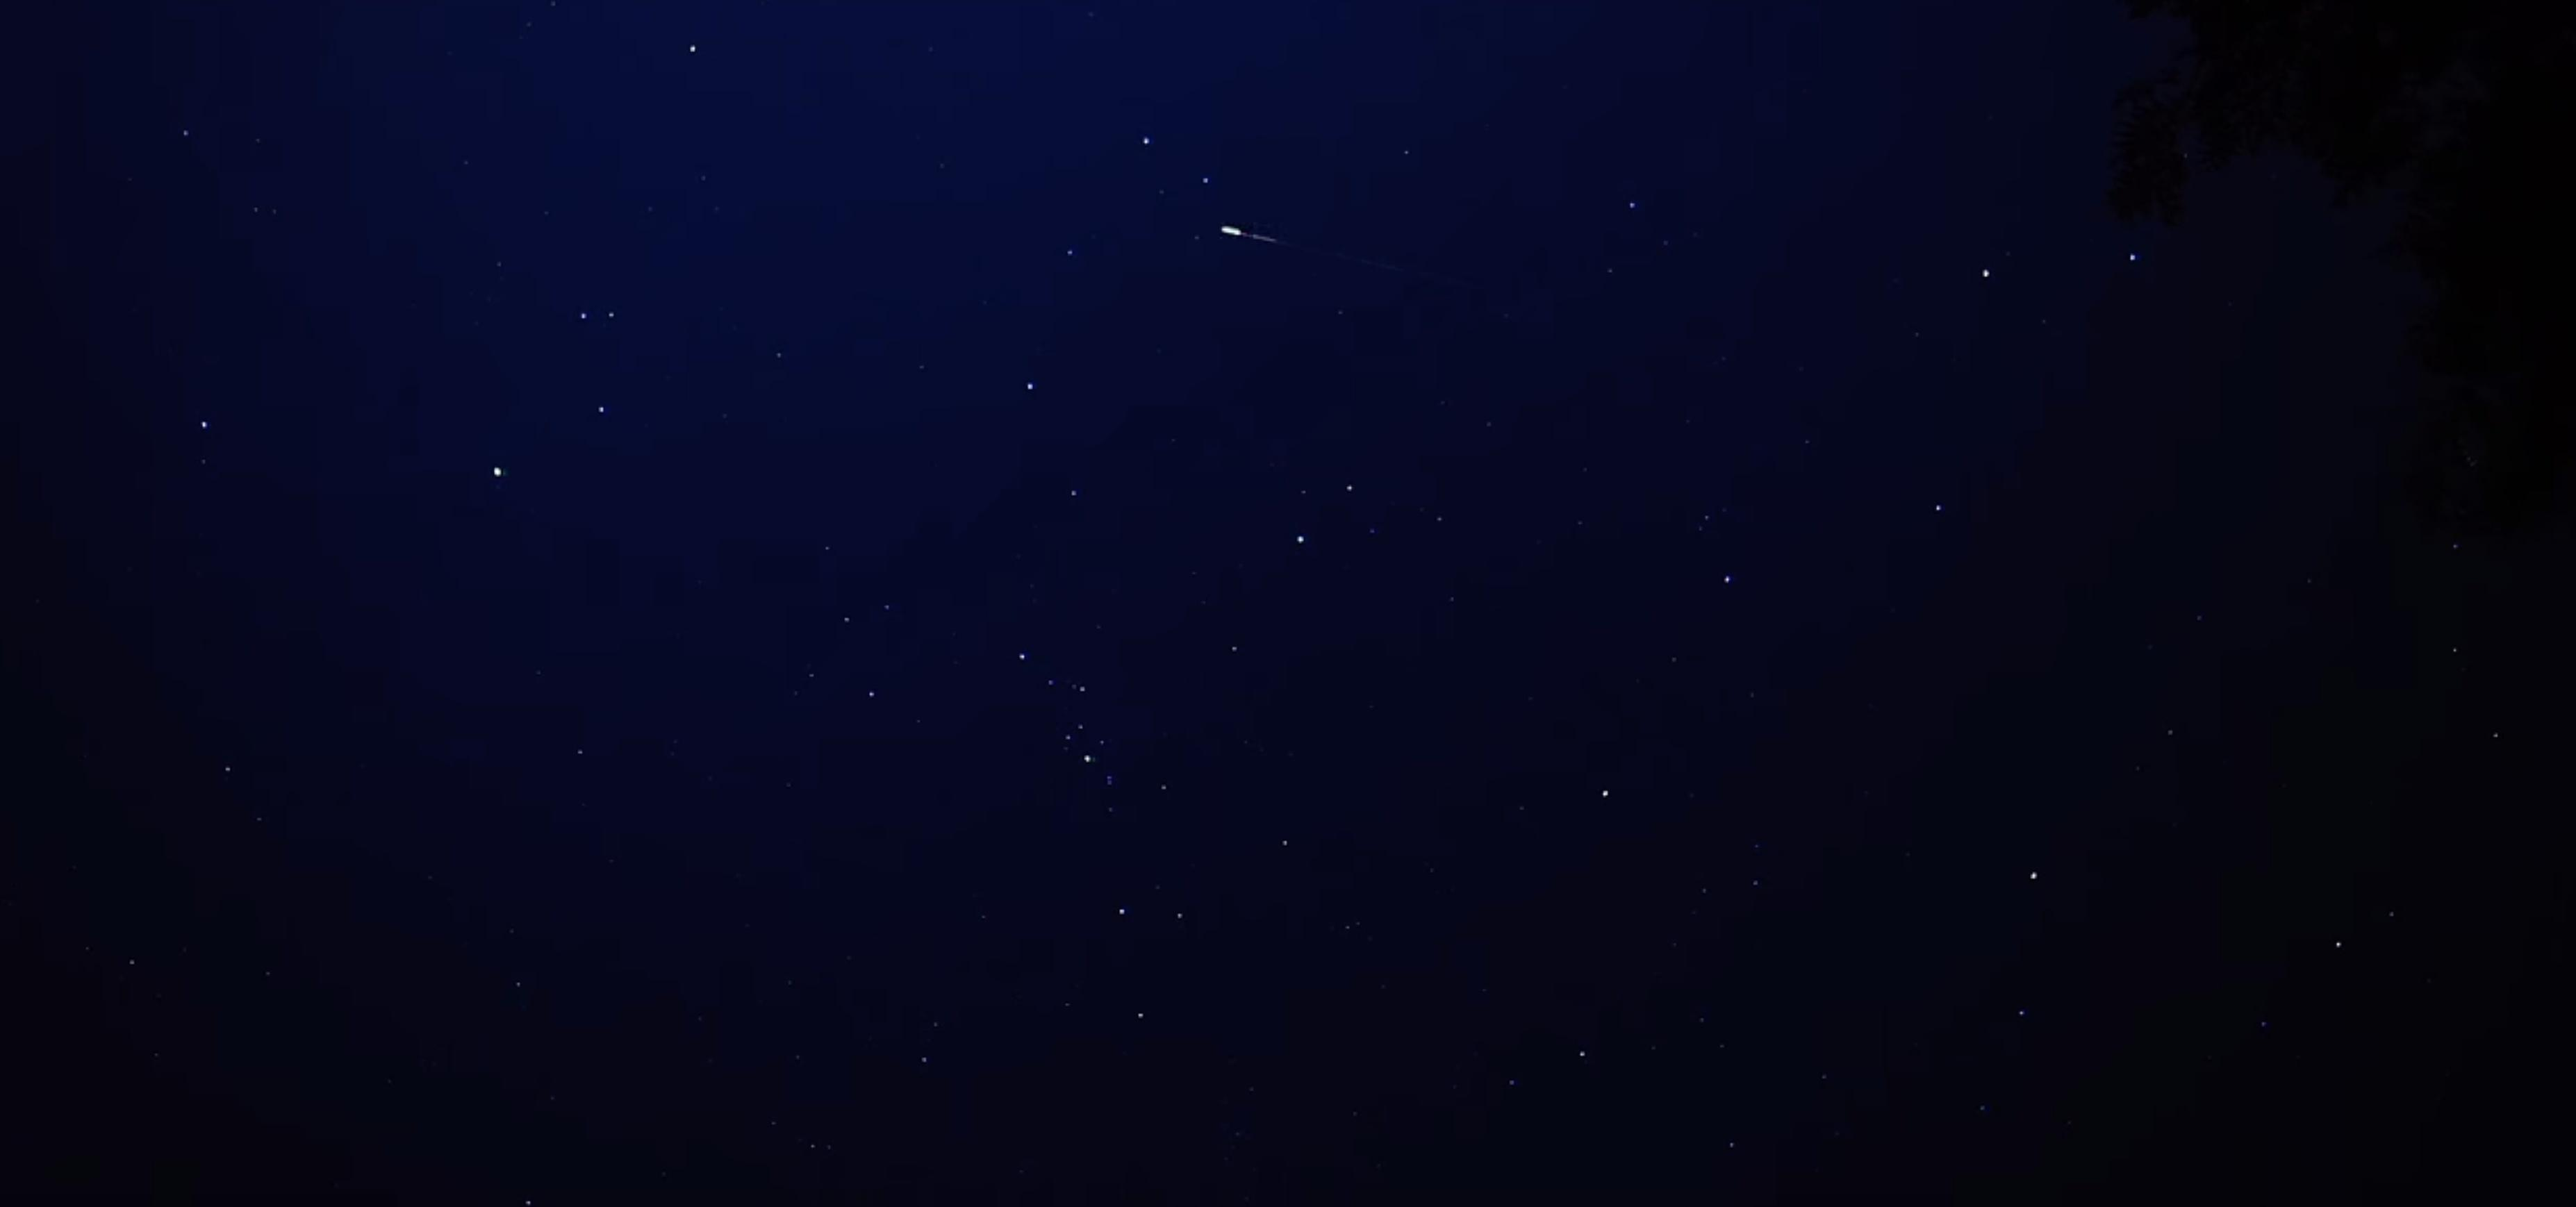meteorite: (1175, 215, 1331, 256)
